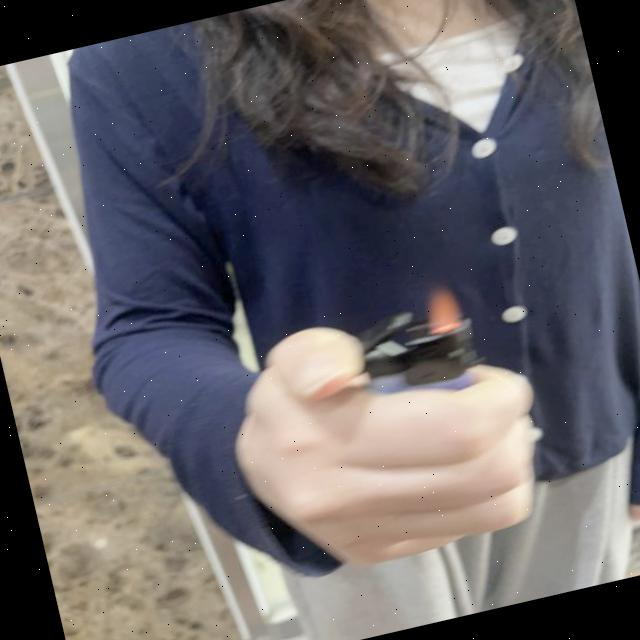fire: (414, 280, 468, 336)
